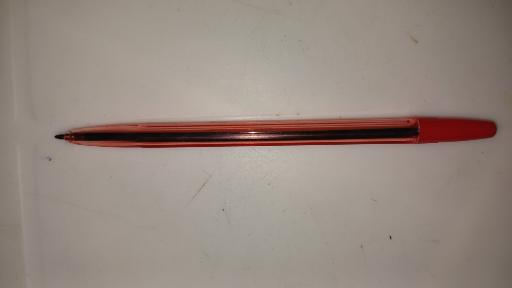pen: (53, 116, 499, 147)
